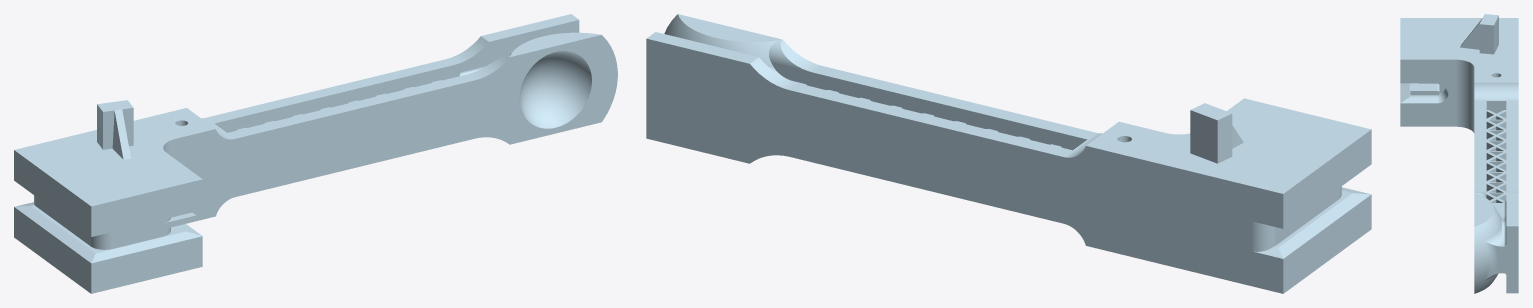
The model's file is mini-catapult.gltf.
The picture shows the model from 3 angles, left to right: view 1: azimuth 30°, elevation 25°; view 2: azimuth 150°, elevation 25°; view 3: azimuth 270°, elevation 25°; orthographic projection. The views are drawn at different scales.
Parts seen in each view (by area): view 1: Part 1; view 2: Part 1; view 3: Part 1.
Boxes of the visible parts, box(x1,y1,x2,y2) form: Part 1: box(14, 14, 617, 293); Part 1: box(646, 14, 1371, 293); Part 1: box(1400, 14, 1518, 293).
Size of the model in its own units: 0.2063 by 0.043 by 0.048.
